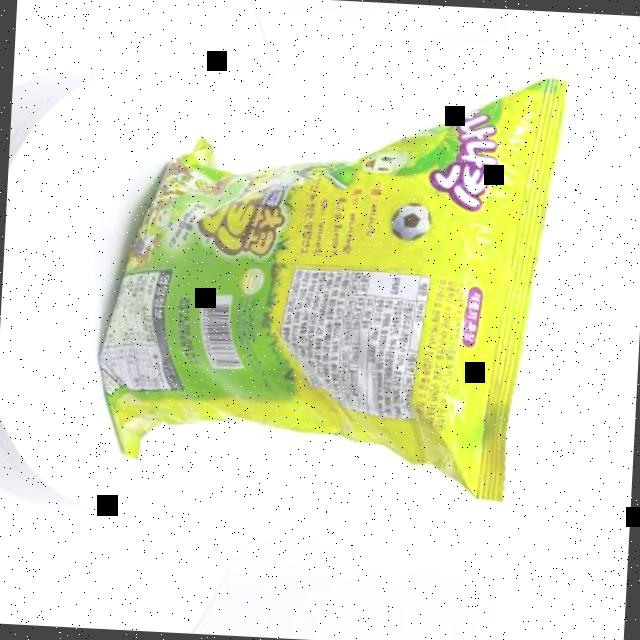snack_bag: (78, 47, 574, 518)
